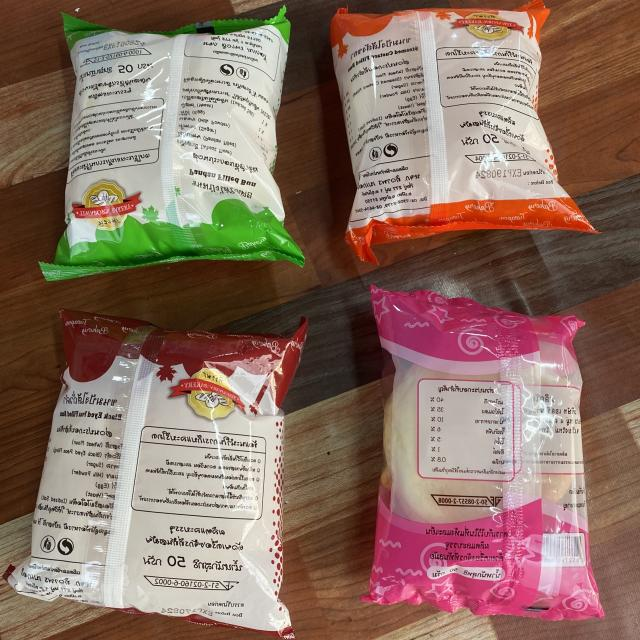plastik: (8, 310, 307, 638), (369, 286, 603, 619), (41, 9, 303, 280), (331, 0, 596, 262)
